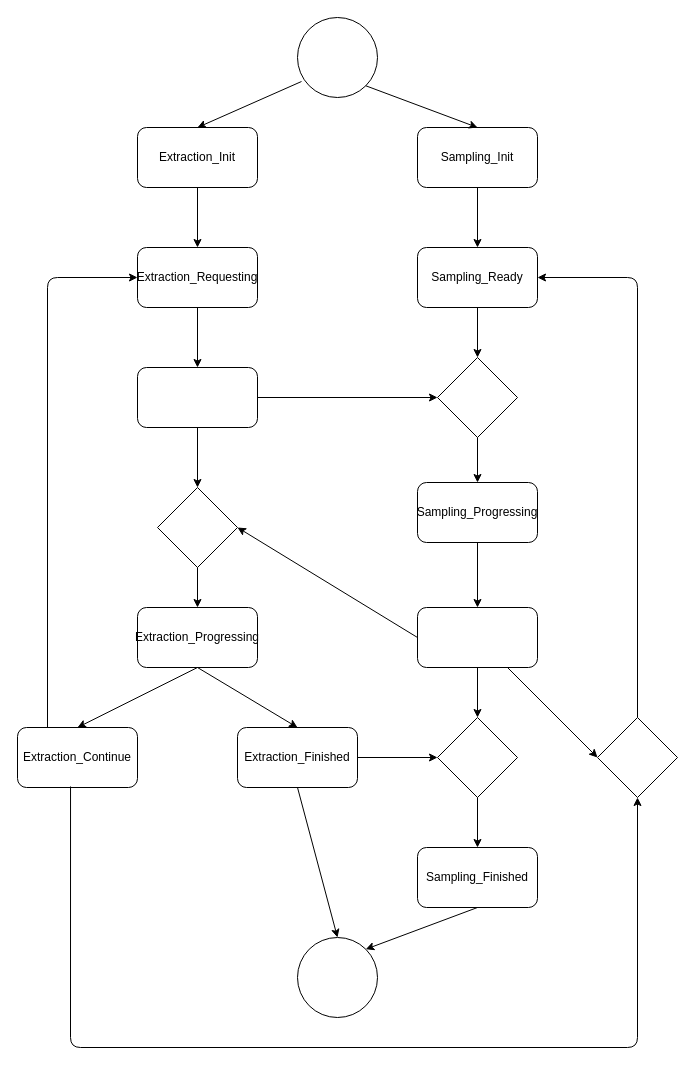
Image size: 695x1073. Some labels were removed from this diagram. The centre of each missing label's shape, as x and y in pixels:
"End" goes at point 337,977.
"Extraction_Done" goes at point 197,397.
"Sampling_Done" goes at point 477,637.
"Start" goes at point 337,57.
